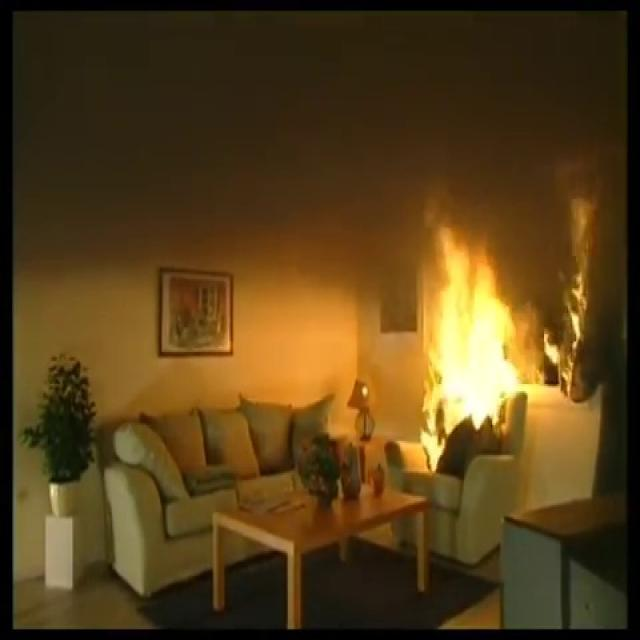Fire: (418, 236, 524, 466), (549, 226, 595, 397)
Smoke: (16, 0, 402, 250), (396, 5, 632, 162)
